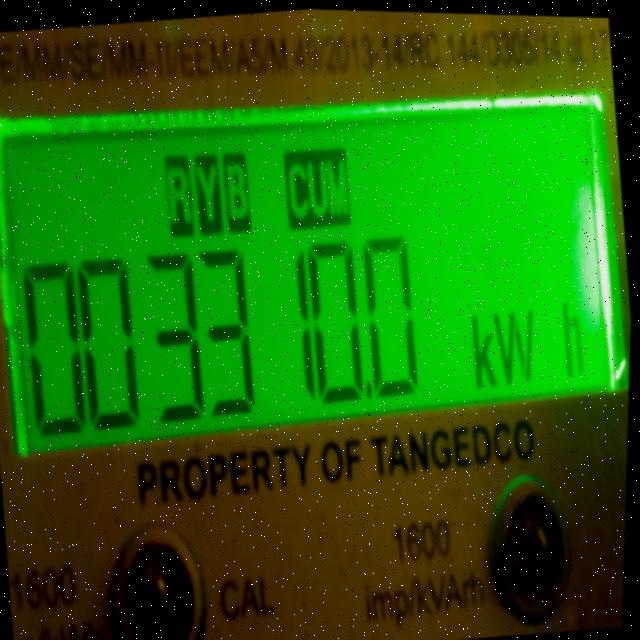.: (367, 379, 377, 402)
0: (19, 256, 92, 431), (75, 256, 148, 430), (362, 230, 426, 398), (307, 240, 372, 405)
1: (290, 245, 323, 402)
3: (195, 246, 262, 416), (143, 252, 210, 418)
